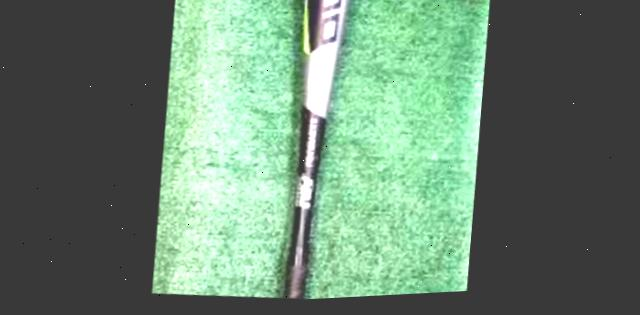baseball bat: (264, 0, 366, 304)
